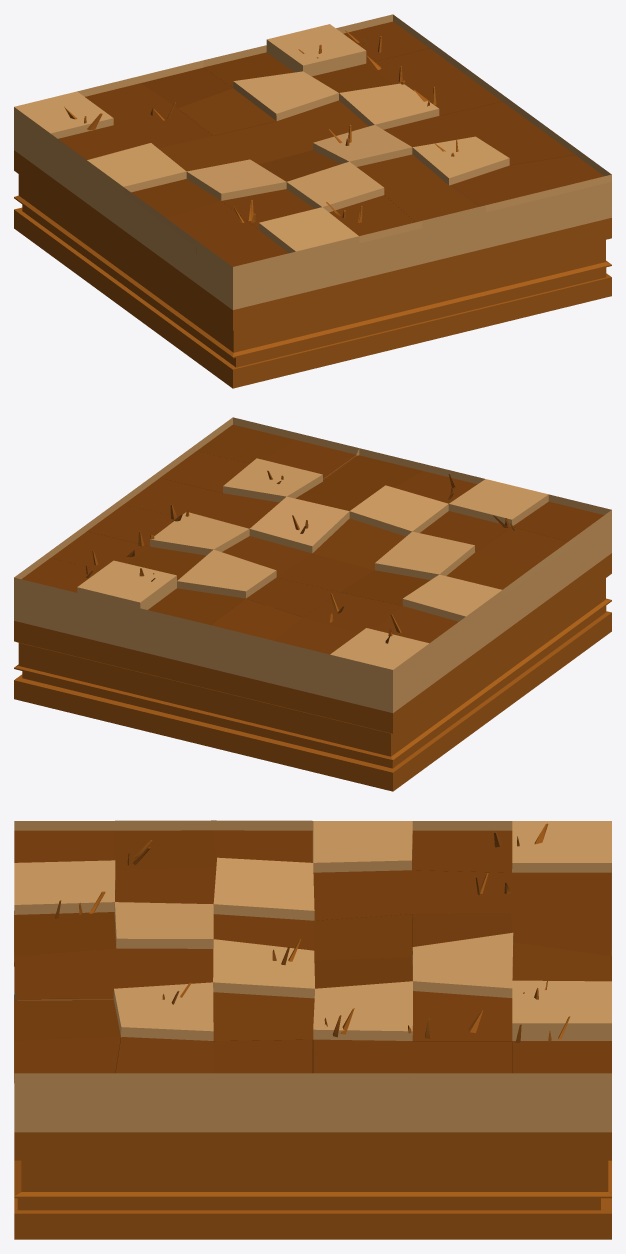
The model's file is Gator Siege_landbrown3.fbx.
The picture shows the model from 3 angles, top to bottom: view 1: azimuth 30°, elevation 25°; view 2: azimuth 150°, elevation 25°; view 3: azimuth 270°, elevation 25°; orthographic projection. The views are drawn at different scales.
Visible parts, largest first — view 1: land_brown3; view 2: land_brown3; view 3: land_brown3.
Part boxes in pixels (x1,y1,x2,y2): land_brown3: (14, 14, 611, 388); land_brown3: (14, 417, 611, 791); land_brown3: (14, 820, 611, 1239).
Bounding box in the file's own units: 0.345 × 0.3452 × 0.1188.
